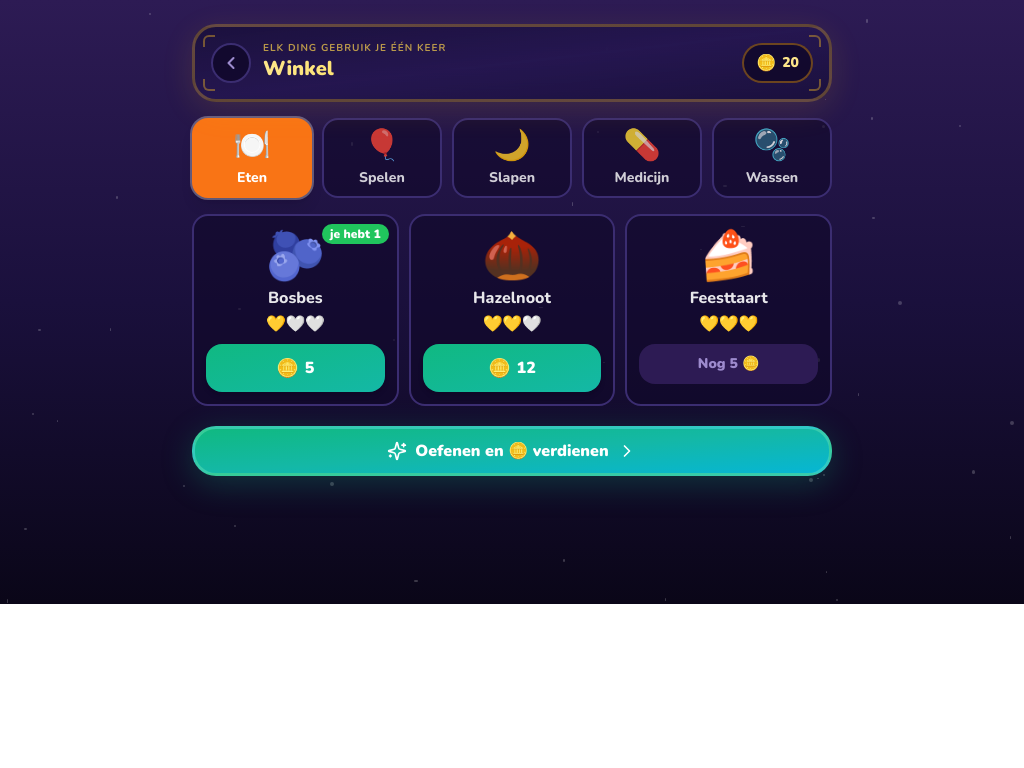
Scenario: BuddyShop › opens on the food tab and switches kinds with the big tabs
Check: the button "je hebt 1 🫐 Bosbes 💛🤍🤍 🪙 5" is shown, box [192, 214, 399, 406]
Click the tab "🎈 Spelen" at [382, 158], box [322, 118, 442, 198]
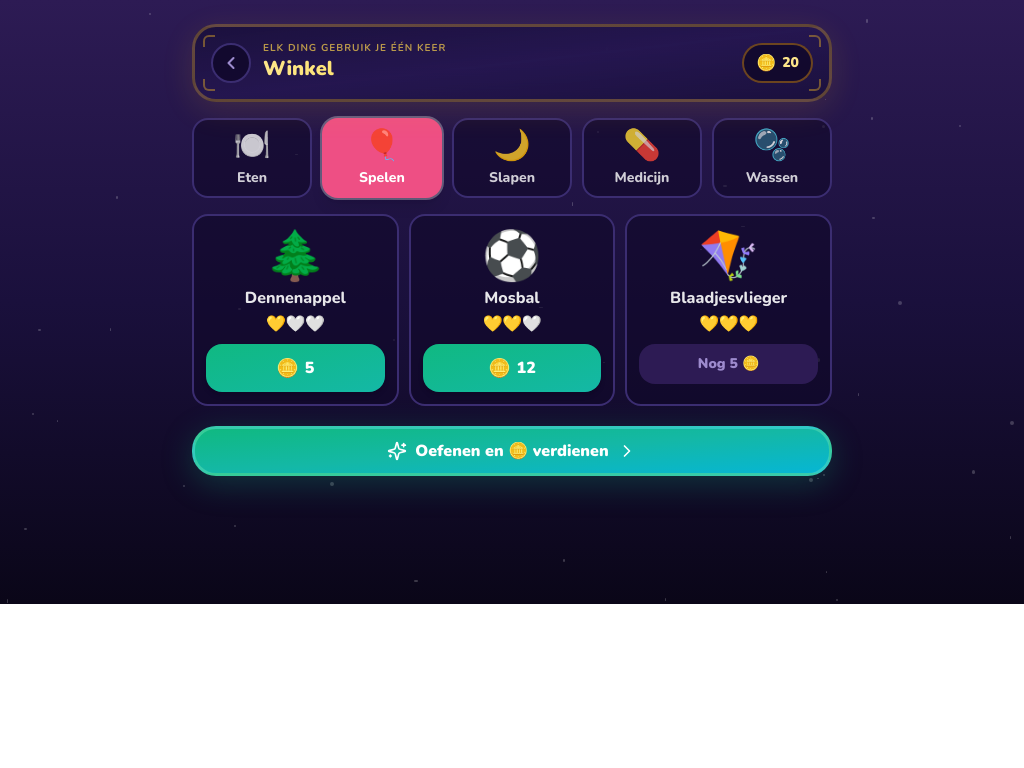
Check: the button "⚽ Mosbal 💛💛🤍 🪙 12" is shown, box [409, 214, 615, 406]
Check: the button "Bosbes" is gone
